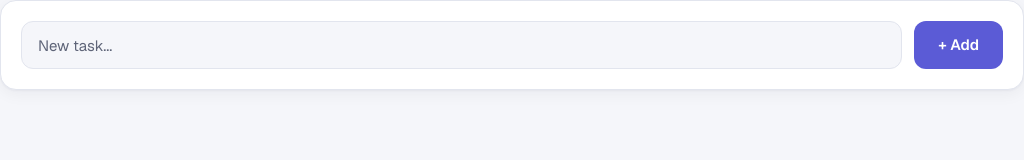
Test: AddTodoForm › sends the trimmed title, clears the input and shows a success message for 2 seconds
Later steps or results of the test are not shown.
Step 1. Type "  Buy milk  " into the field with placeholder "New task..." → (462, 45), box [21,21,902,69]
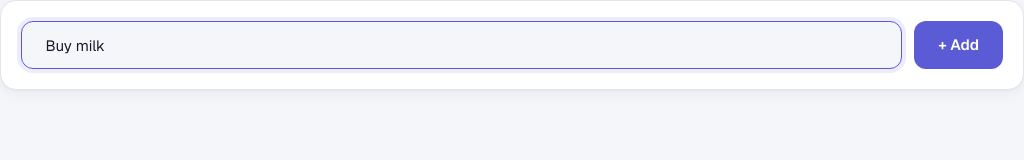
Step 2. Click the button "+ Add" → (959, 45), box [914,21,1003,69]
Wait 2000 ms
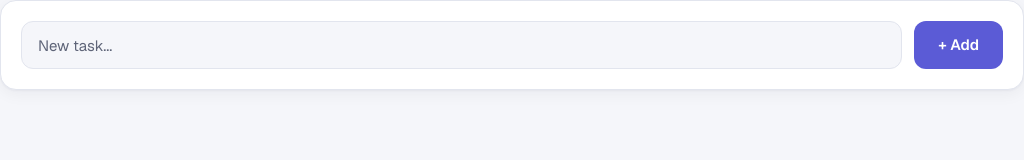
Expected: the field with placeholder "New task..." is empty, [21,21,902,69]
